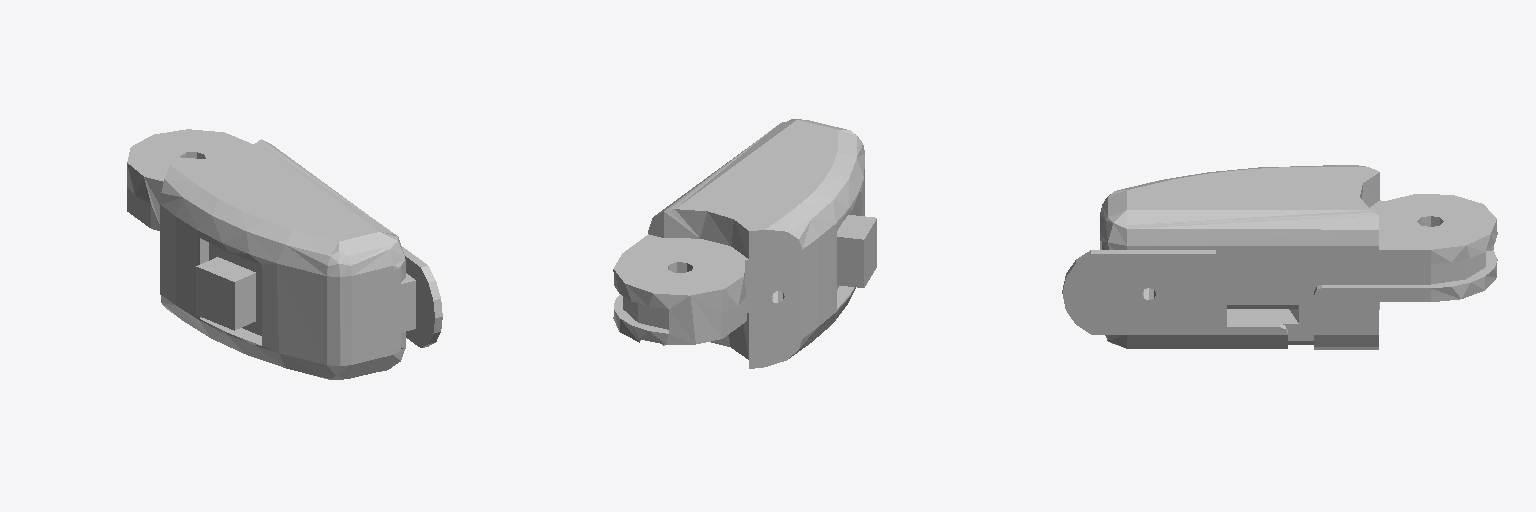
The model's file is fingertip_l.obj.
3 renders of one model, left to right at view 1: azimuth 30°, elevation 25°; view 2: azimuth 150°, elevation 25°; view 3: azimuth 270°, elevation 25°, orthographic.
Size of the model in its own units: 0.0202 by 0.017 by 0.0487.